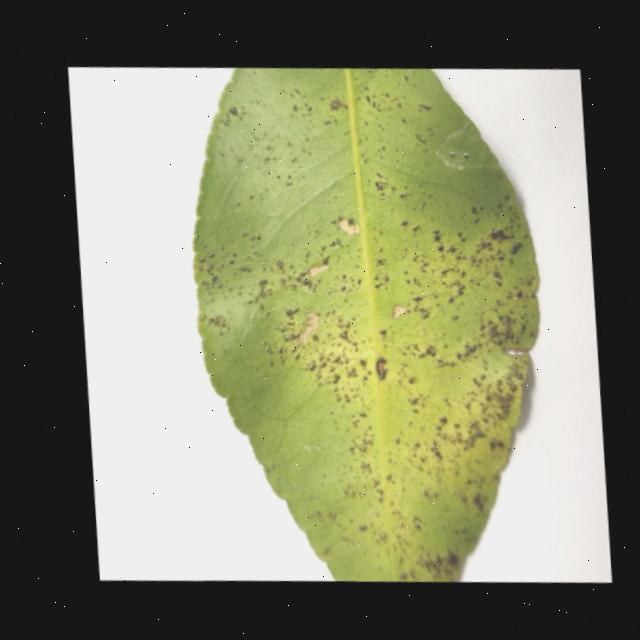melanose: (193, 68, 537, 583)
